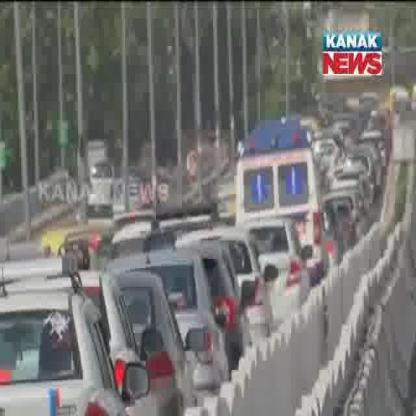priority: (232, 117, 320, 219)
